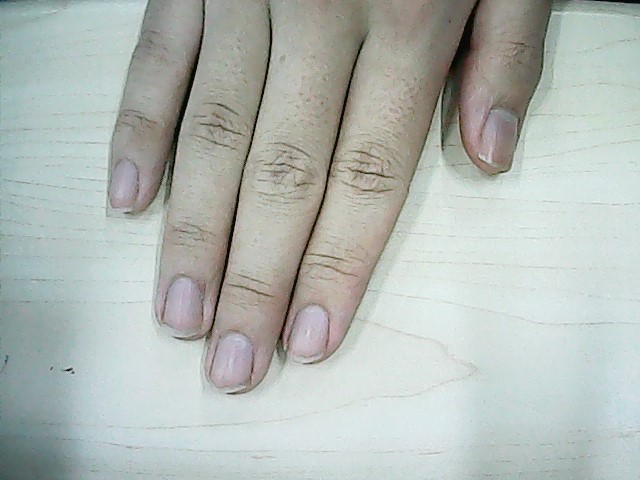nail: (209, 328, 256, 395), (477, 106, 520, 172), (161, 274, 204, 339), (286, 302, 330, 363), (107, 158, 138, 212)
